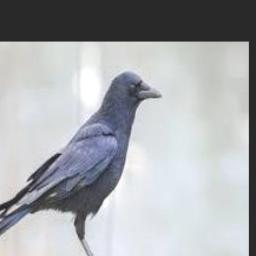Crow: (0, 71, 162, 256)
